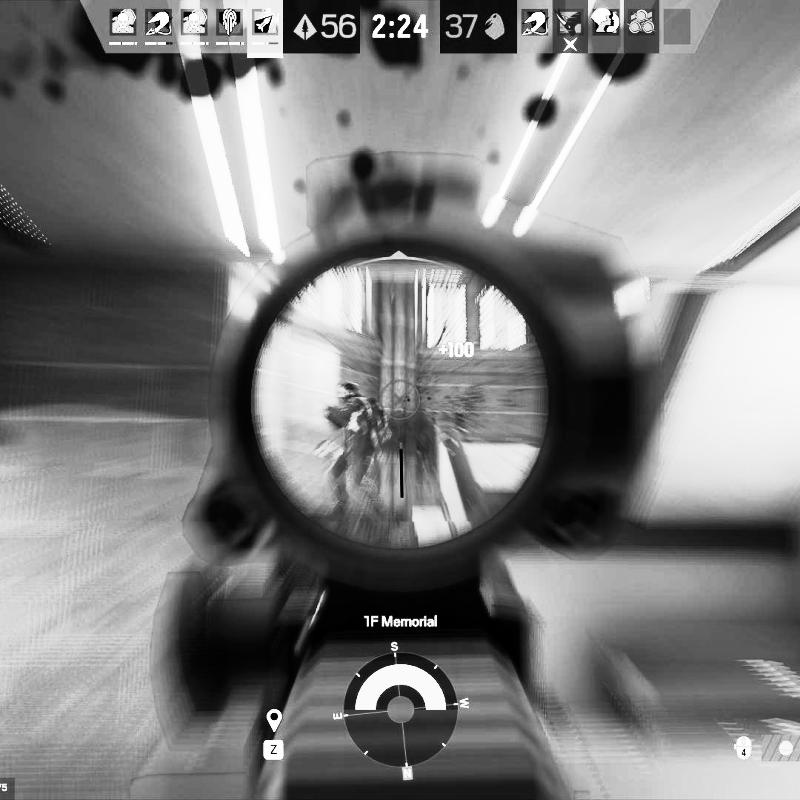Character: (316, 381, 392, 522)
Head: (334, 382, 362, 400)
